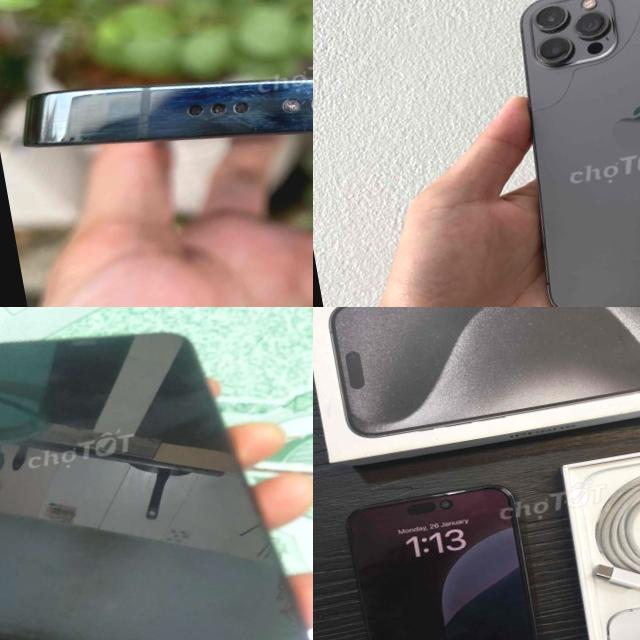gen_11: (0, 307, 313, 640)
gen_12_13: (11, 0, 313, 223), (490, 0, 640, 307)
gen_15: (319, 466, 579, 640)
physical_damage: (513, 0, 640, 120)
scratch: (100, 39, 313, 189)
